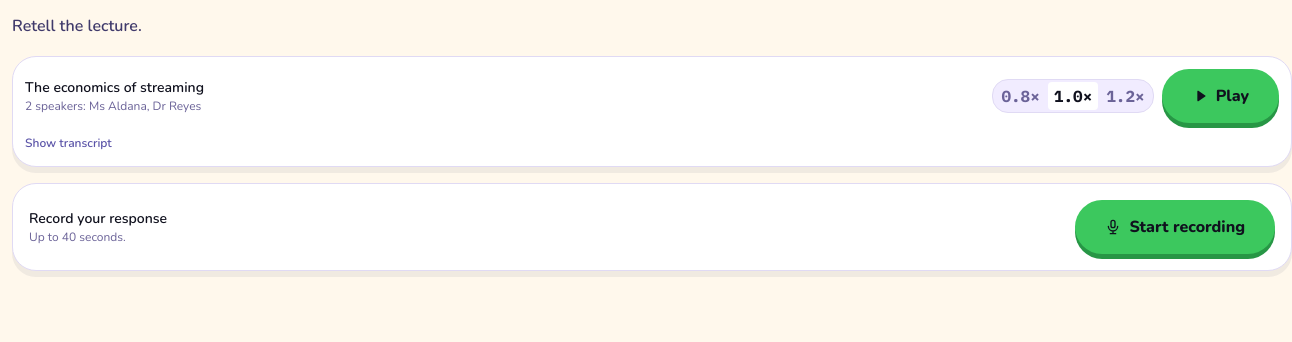
Test: QuestionView › spoken answers › locks the recorder while the stimulus is playing
The image size is (1292, 342).
expect the button "Start recording" is enabled: met, box [1076,200,1275,254]
Click the button "Play".
click(1220, 96)  # box [1162,69,1279,123]
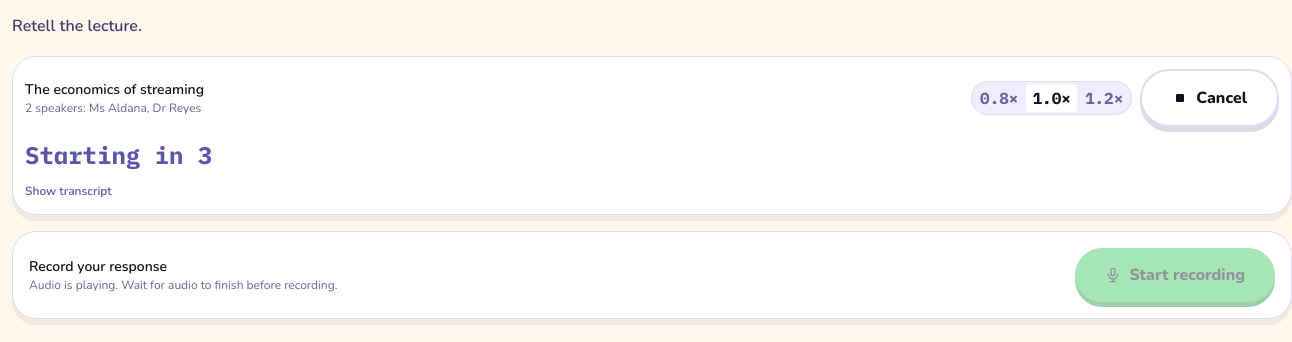
expect the button "Start recording" is disabled: met, box [1076,248,1275,302]
